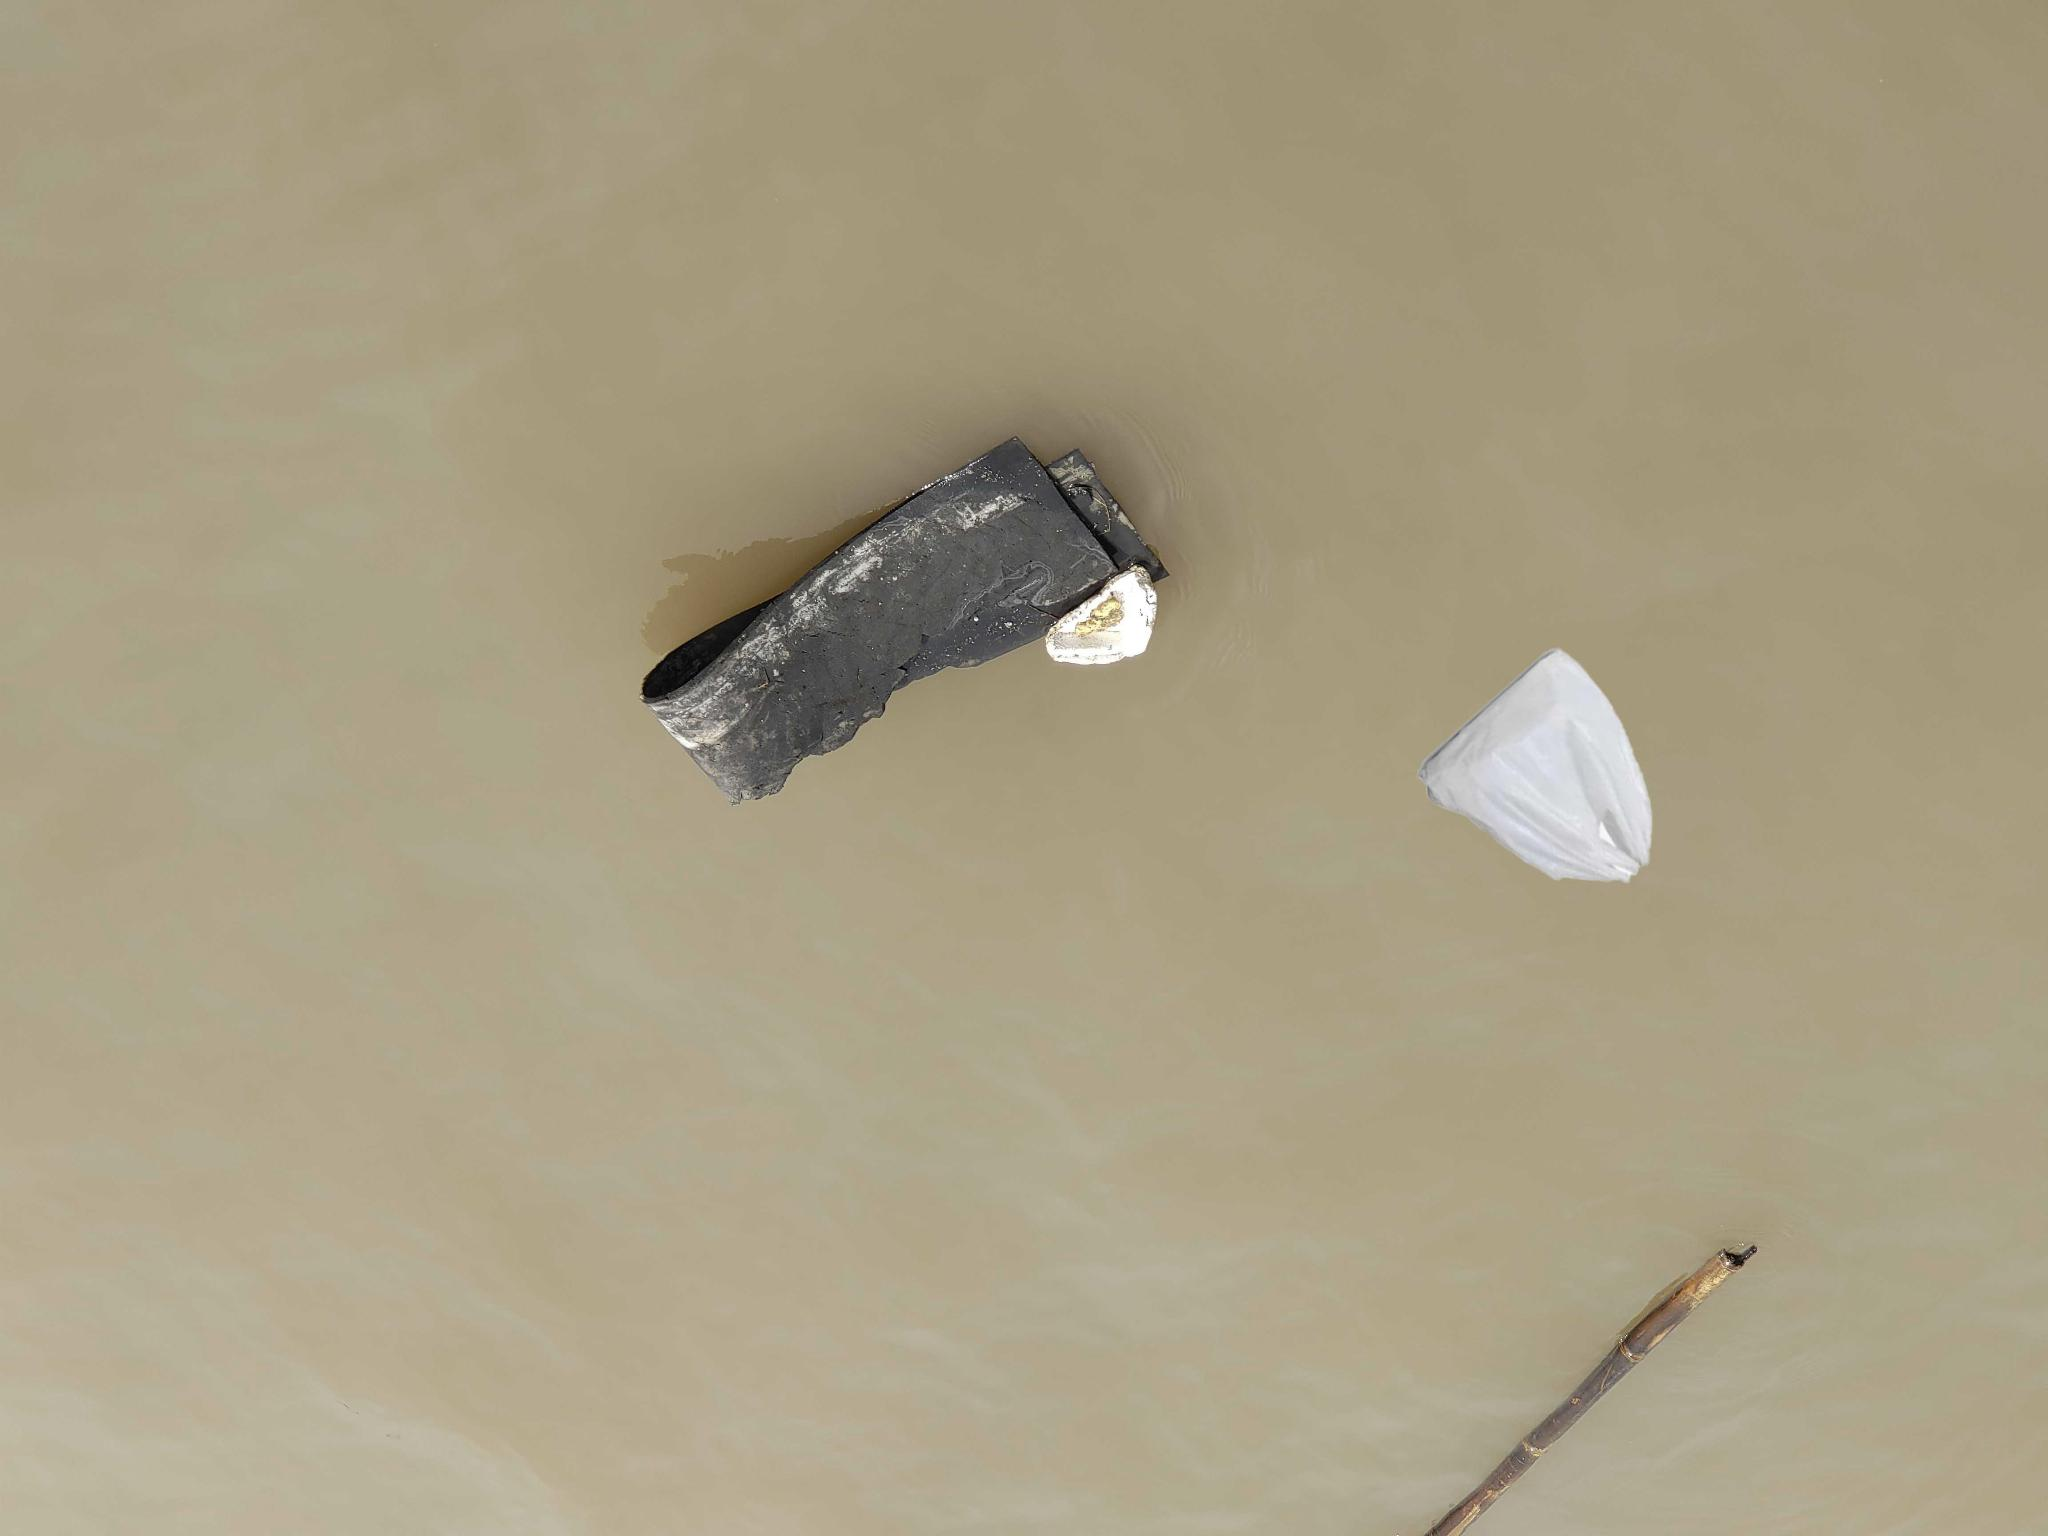Trash: (1417, 644, 1656, 891)
